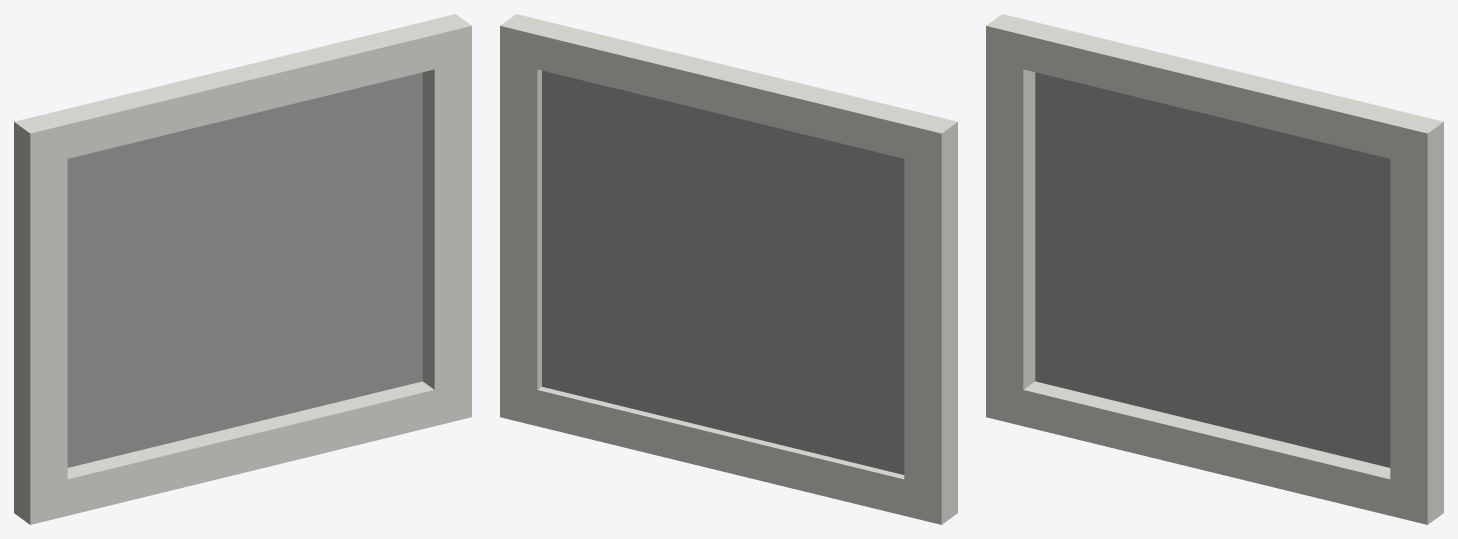
File: Window_1A.fbx
3 views of the same model, side by side, from view 1: azimuth 30°, elevation 25°; view 2: azimuth 150°, elevation 25°; view 3: azimuth 330°, elevation 25° (orthographic).
Parts seen in each view (by area): view 1: Window_Glass1, polySurface1991; view 2: Window_Glass1, polySurface1991; view 3: Window_Glass1, polySurface1991.
Part boxes in pixels (x1,y1,x2,y2): Window_Glass1: (67,72,422,467); polySurface1991: (14,14,471,524); Window_Glass1: (542,70,904,474); polySurface1991: (500,14,957,524); Window_Glass1: (1035,72,1390,467); polySurface1991: (986,14,1443,524).
Size of the model in its own units: 2.36 by 2 by 0.15.
2 materials, 1 textured.
